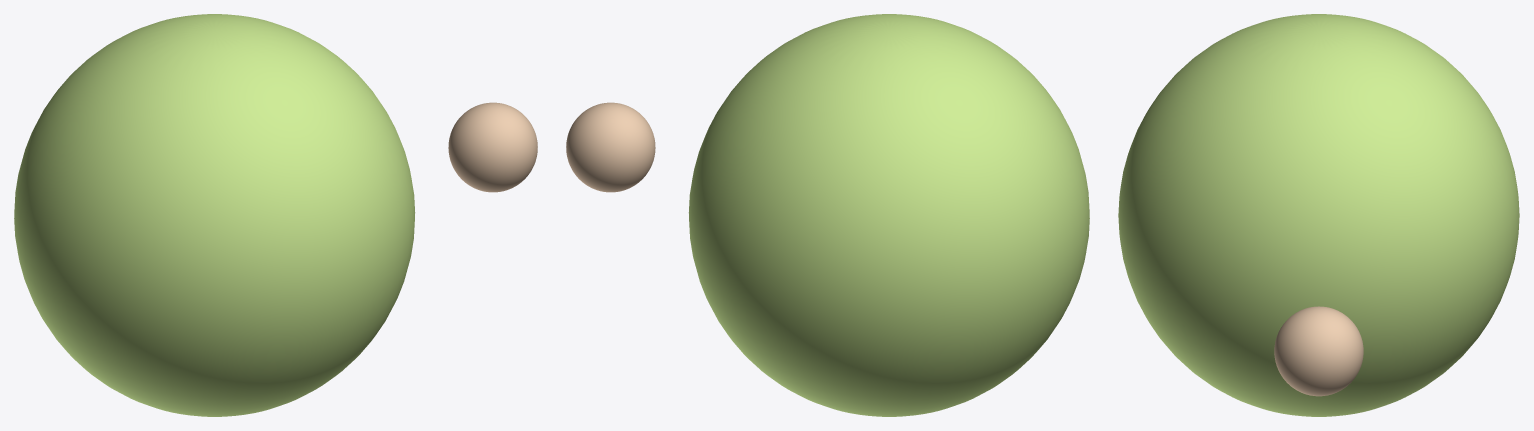
File: Hydrogen.gltf
3 renders of one model, left to right at view 1: azimuth 30°, elevation 25°; view 2: azimuth 150°, elevation 25°; view 3: azimuth 270°, elevation 25°, orthographic.
Parts seen in each view (by area): view 1: Sphere, Sphere.001; view 2: Sphere, Sphere.001; view 3: Sphere, Sphere.001.
Boxes of the visible parts, <box> form: Sphere: <box>14,14,415,416</box>; Sphere.001: <box>448,102,537,192</box>; Sphere: <box>688,14,1089,416</box>; Sphere.001: <box>566,102,655,192</box>; Sphere: <box>1118,14,1519,416</box>; Sphere.001: <box>1274,306,1363,396</box>.
Bounding box in the file's own units: 2.79 × 2 × 1.97.
